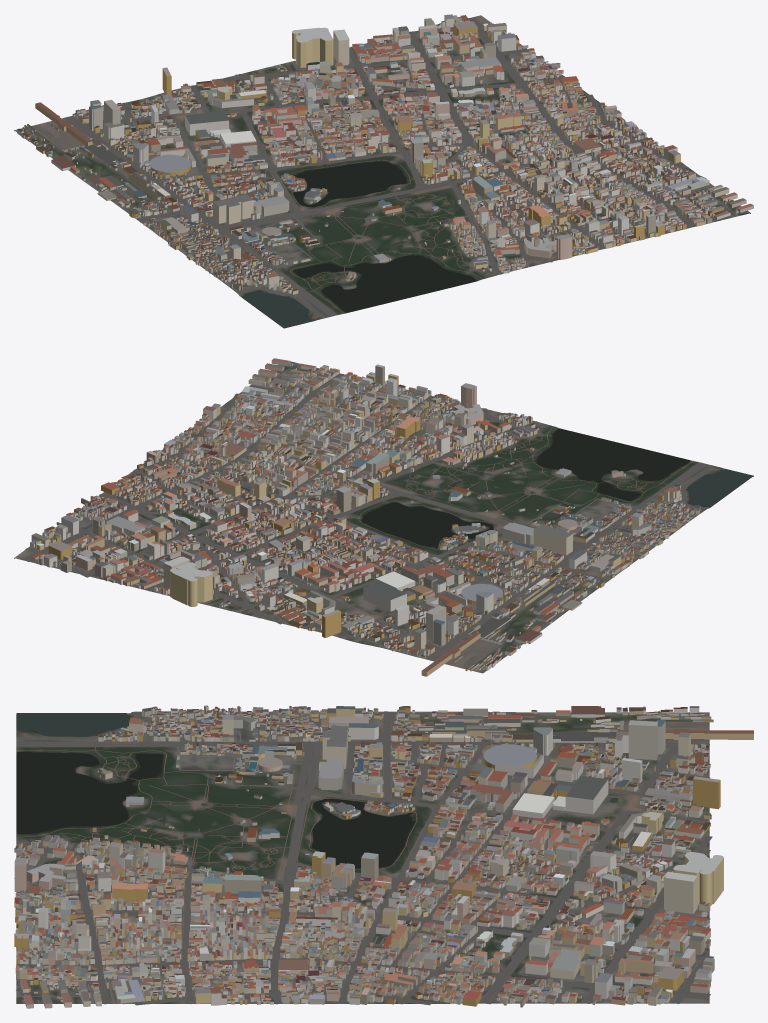
3 views of the same model, one above another, from view 1: azimuth 30°, elevation 25°; view 2: azimuth 150°, elevation 25°; view 3: azimuth 270°, elevation 25° (orthographic). The views are drawn at different scales.
Parts seen in each view (by area): view 1: buildings, ground, roads, water; view 2: buildings, ground, roads, water; view 3: buildings, ground, roads, water.
Part boxes in pixels (box(x1,y1,x2,y2)): buildings: box(17, 14, 753, 294); ground: box(14, 15, 750, 328); roads: box(31, 17, 747, 318); water: box(241, 161, 476, 327); buildings: box(30, 358, 700, 676); ground: box(14, 361, 753, 673); roads: box(22, 362, 713, 668); water: box(361, 428, 752, 612); buildings: box(14, 705, 753, 1008); ground: box(16, 711, 709, 1003); roads: box(14, 711, 713, 1005); water: box(17, 713, 618, 868).
Size of the model in its own units: 1438 by 81.71 by 1496.
